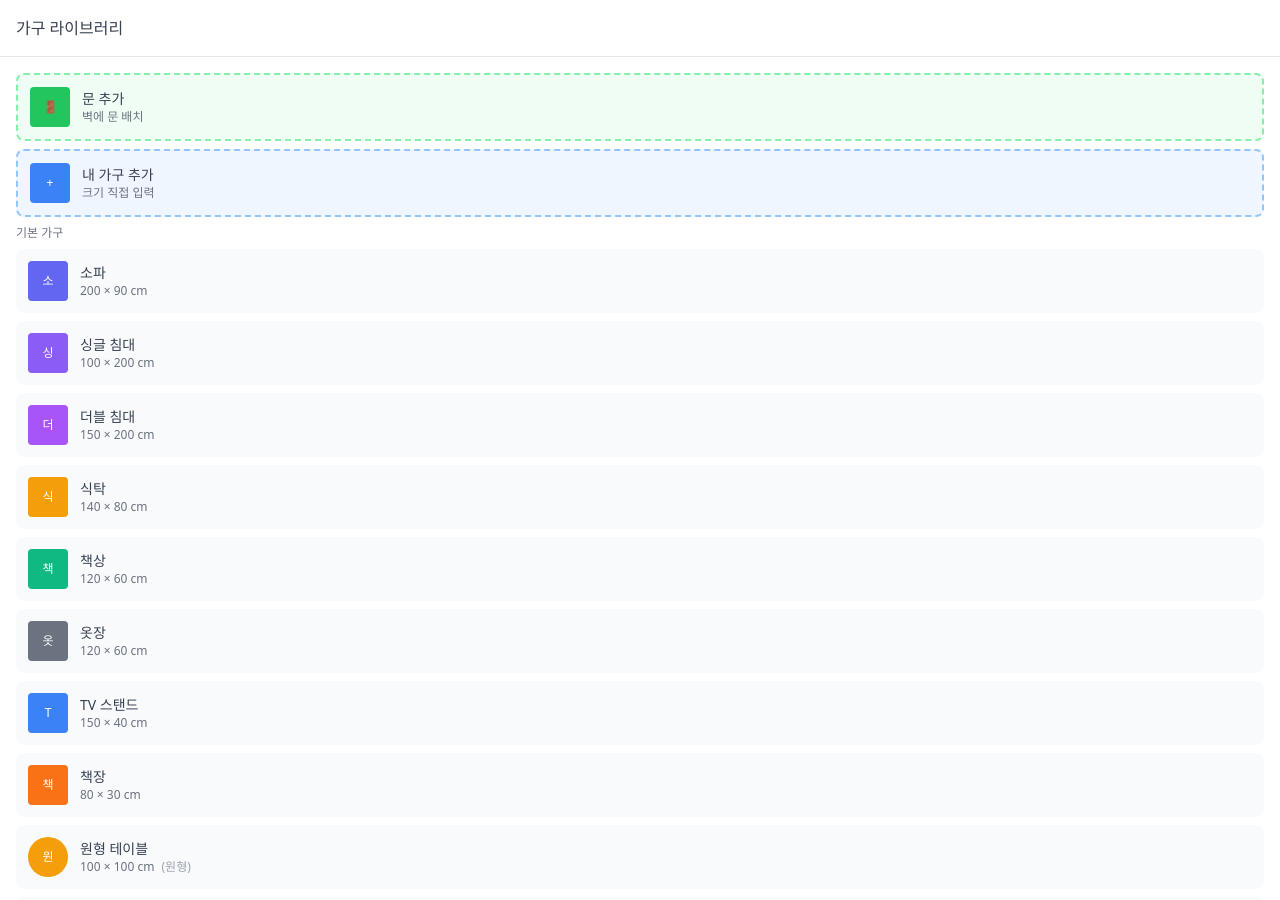
Test: FurnitureLibrary 컴포넌트 › 이름 없이 추가하면 에러 메시지가 표시된다
What coordinates should you click on to do the following:
click the element showing "+ 내 가구 추가 크기 직접 입력"
I would click on:
 (640, 183)
Its box is [16,149,1264,217].
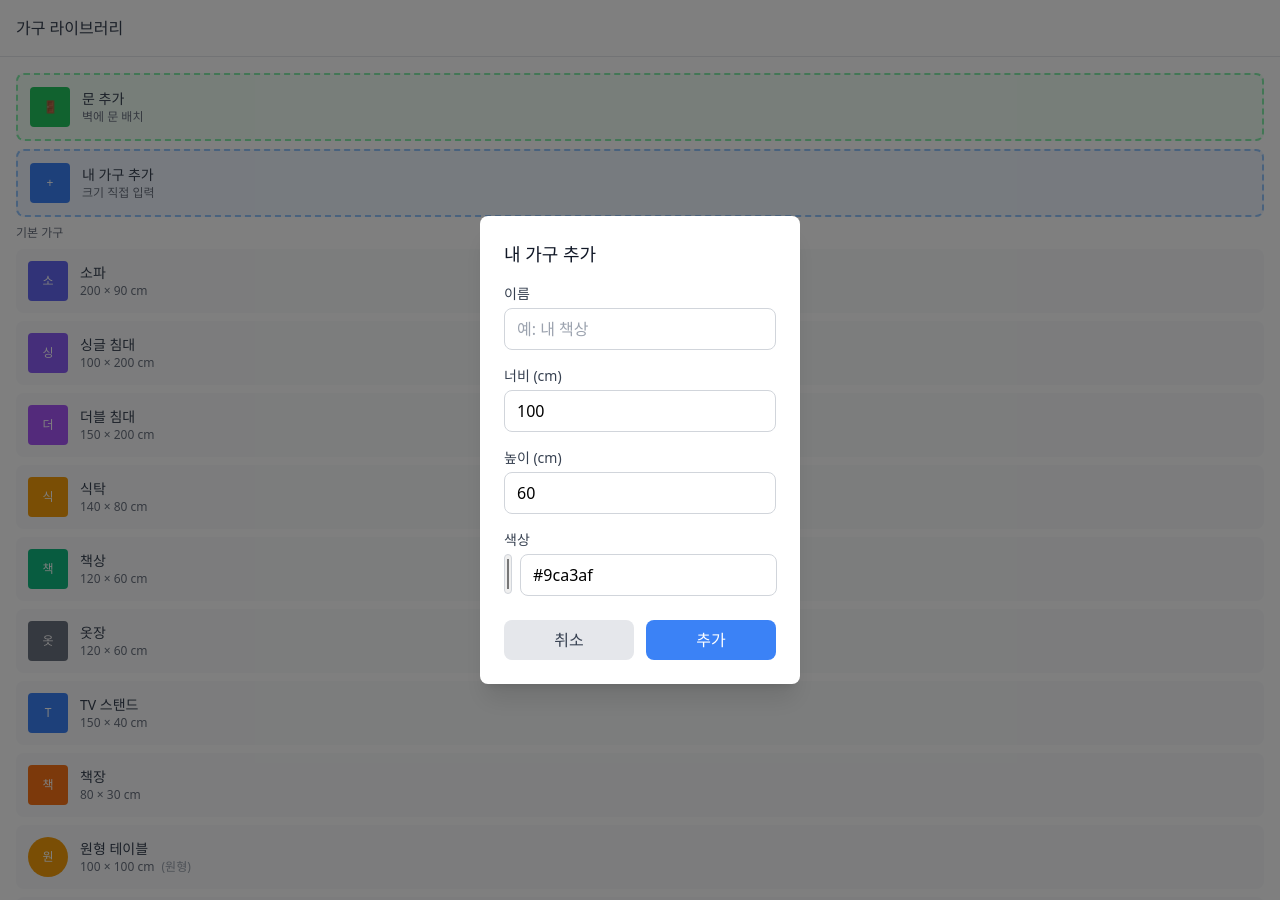
Note: 이름 없이 추가 시도
What coordinates should you click on to do the following:
click the button "추가"
I would click on:
 (711, 640)
Its box is [646,620,776,660].
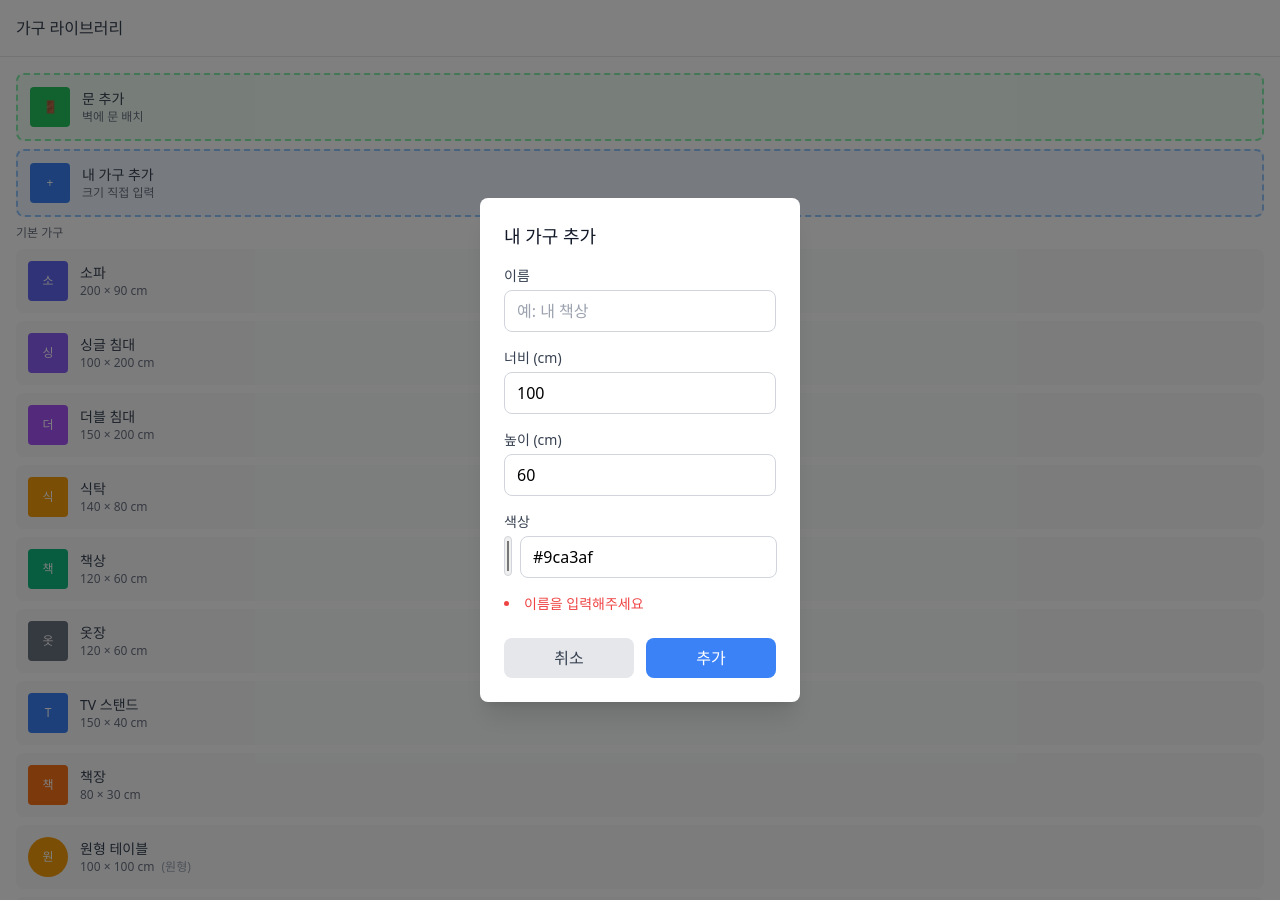
Result: the text "이름을 입력해주세요" is shown at [524,594,644,613]
